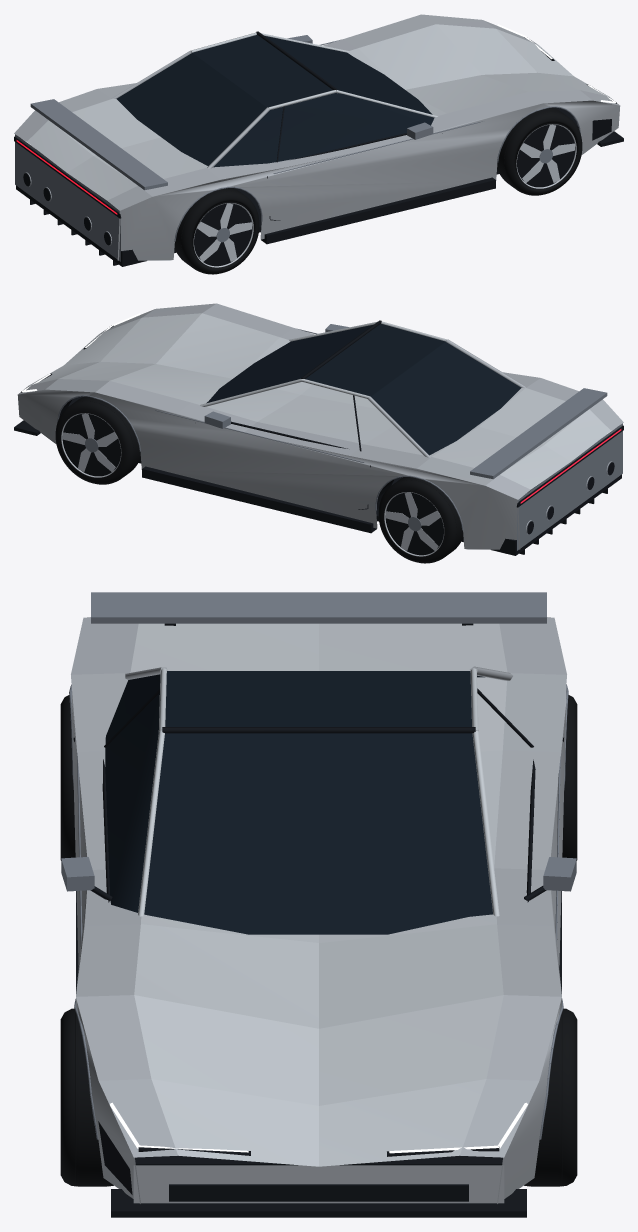
Rendered from roadster-2026.glb.
The picture shows the model from 3 angles, top to bottom: view 1: azimuth 30°, elevation 25°; view 2: azimuth 150°, elevation 25°; view 3: azimuth 270°, elevation 25°; orthographic projection. The views are drawn at different scales.
Visible parts, largest first — view 1: Sculpted_side_1, Sloping_rear_glass, Side_window_1, Dark_glass_roof, Tail_face, Upper_plane_5_-1, Long_raked_windshield, Active_rear_spoiler, Upper_plane_6_-1, Carbon_side_skirt_1, Tire_Front_Right, Tire_Rear_Right (+24 smaller); view 2: Sculpted_side_-1, Sloping_rear_glass, Dark_glass_roof, Tail_face, Upper_plane_5_1, Long_raked_windshield, Upper_plane_3_-1, Active_rear_spoiler, Upper_plane_6_1, Carbon_side_skirt_-1, Tire_Front_Left, Tire_Rear_Left (+30 smaller); view 3: Long_raked_windshield, Dark_glass_roof, Active_rear_spoiler, Upper_plane_5_-1, Upper_plane_5_1, Upper_plane_6_-1, Upper_plane_6_1, Upper_plane_7_1, Upper_plane_7_-1, Nose_face, Side_window_1, Upper_plane_1_1 (+34 smaller).
Part boxes in pixels (x1=…): Sculpted_side_1: x1=117, y1=100, x2=620, y2=260; Sloping_rear_glass: x1=116, y1=53, x2=266, y2=165; Side_window_1: x1=213, y1=93, x2=434, y2=167; Dark_glass_roof: x1=192, y1=35, x2=332, y2=107; Tail_face: x1=15, y1=134, x2=120, y2=261; Upper_plane_5_-1: x1=358, y1=24, x2=481, y2=89; Long_raked_windshield: x1=265, y1=36, x2=432, y2=114; Active_rear_spoiler: x1=30, y1=99, x2=167, y2=190; Upper_plane_6_-1: x1=436, y1=24, x2=536, y2=74; Carbon_side_skirt_1: x1=261, y1=177, x2=495, y2=244; Tire_Front_Right: x1=497, y1=107, x2=582, y2=195; Tire_Rear_Right: x1=174, y1=188, x2=259, y2=274; Sculpted_side_-1: x1=17, y1=389, x2=520, y2=549; Sloping_rear_glass: x1=371, y1=342, x2=521, y2=455; Dark_glass_roof: x1=305, y1=324, x2=445, y2=396; Tail_face: x1=517, y1=423, x2=622, y2=550; Upper_plane_5_1: x1=156, y1=313, x2=279, y2=378; Long_raked_windshield: x1=206, y1=324, x2=373, y2=403; Upper_plane_3_-1: x1=257, y1=395, x2=393, y2=444; Active_rear_spoiler: x1=470, y1=388, x2=607, y2=479; Upper_plane_6_1: x1=101, y1=313, x2=201, y2=363; Carbon_side_skirt_-1: x1=142, y1=466, x2=376, y2=533; Tire_Front_Left: x1=55, y1=396, x2=140, y2=484; Tire_Rear_Left: x1=378, y1=477, x2=463, y2=563; Long_raked_windshield: x1=144, y1=733, x2=492, y2=934; Dark_glass_roof: x1=165, y1=671, x2=471, y2=726; Active_rear_spoiler: x1=91, y1=592, x2=546, y2=623; Upper_plane_5_-1: x1=319, y1=924, x2=503, y2=1028; Upper_plane_5_1: x1=134, y1=924, x2=318, y2=1028; Upper_plane_6_-1: x1=319, y1=995, x2=503, y2=1105; Upper_plane_6_1: x1=134, y1=995, x2=318, y2=1105; Upper_plane_7_1: x1=151, y1=1079, x2=318, y2=1166; Upper_plane_7_-1: x1=319, y1=1079, x2=486, y2=1166; Nose_face: x1=133, y1=1165, x2=504, y2=1203; Side_window_1: x1=105, y1=674, x2=160, y2=912; Upper_plane_1_1: x1=130, y1=623, x2=318, y2=672.
Size of the model in its own units: 4.65 by 1.18 by 2.05.
